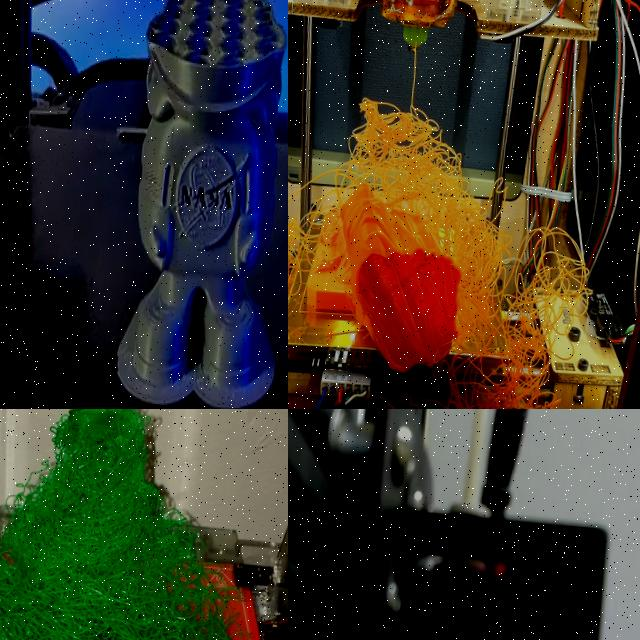spaghetti: (288, 85, 634, 409), (0, 409, 230, 640)
